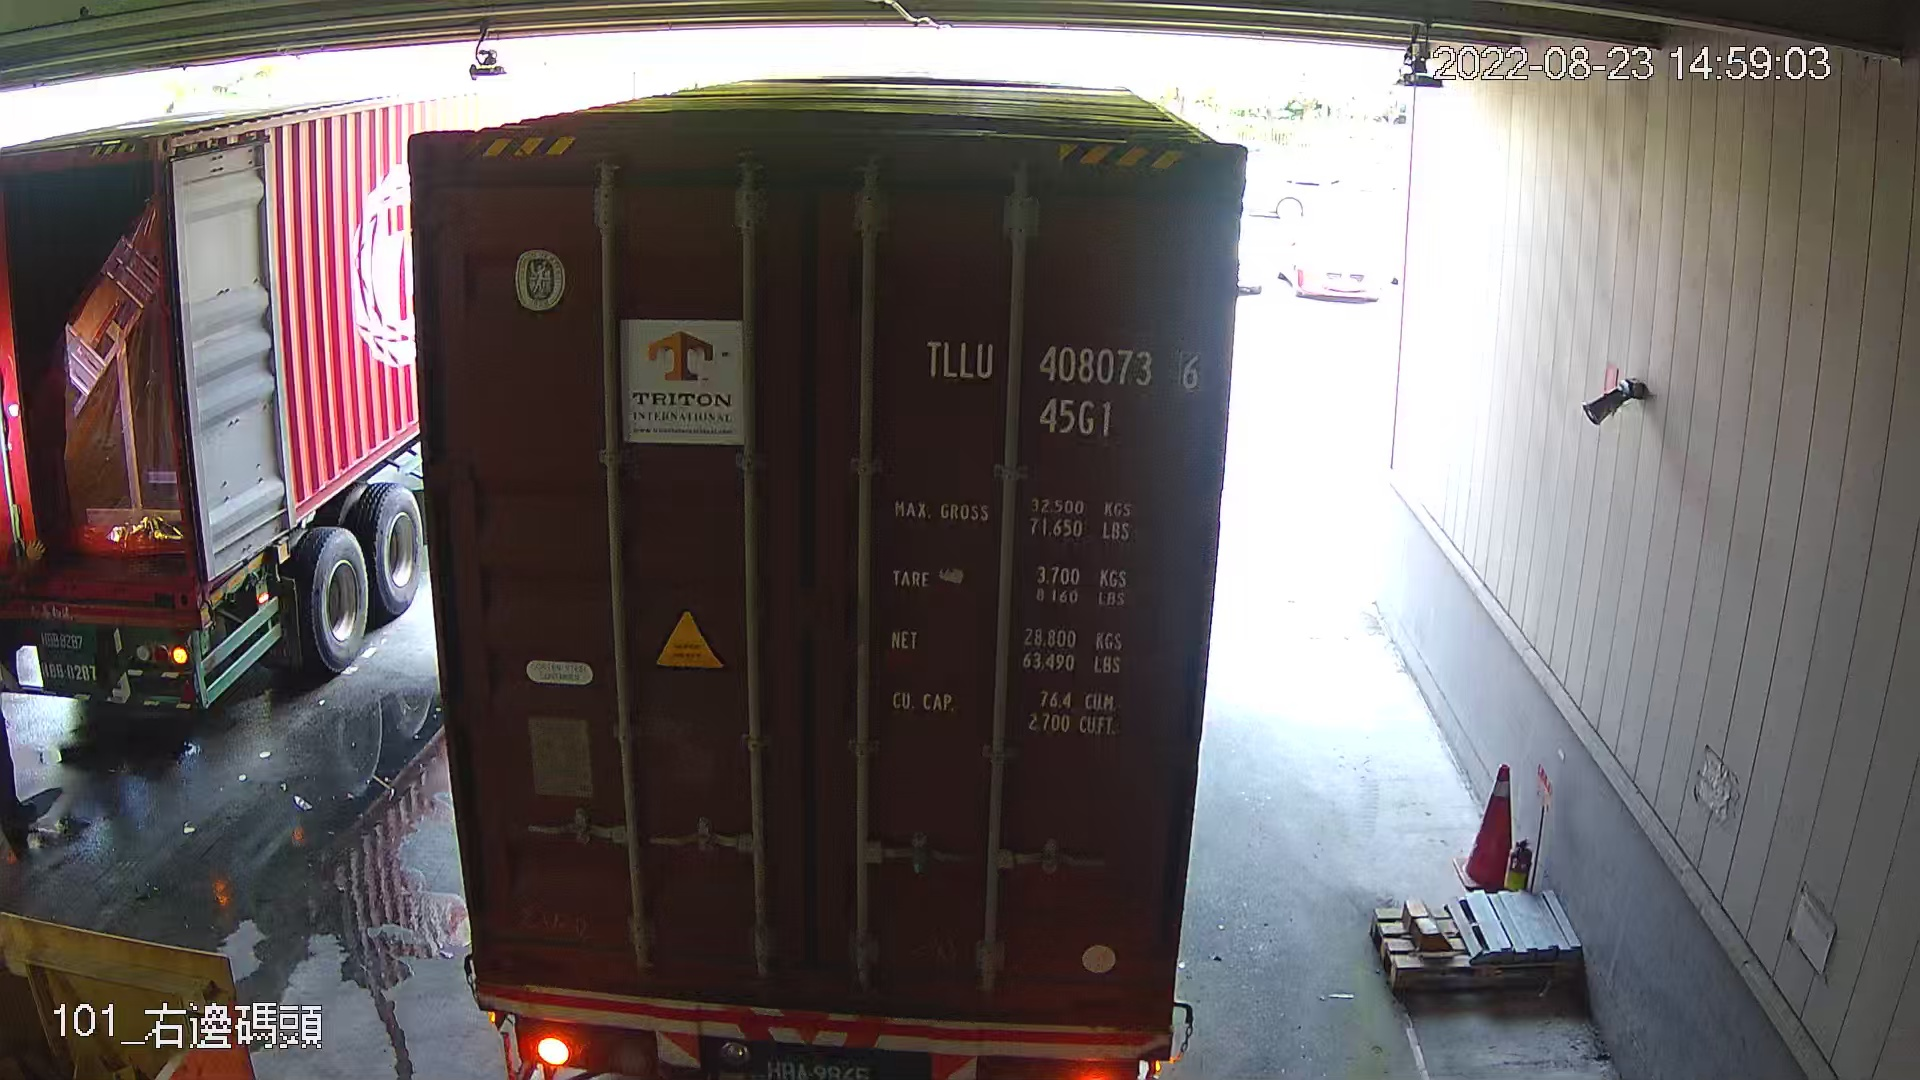container: (909, 323, 1216, 448)
